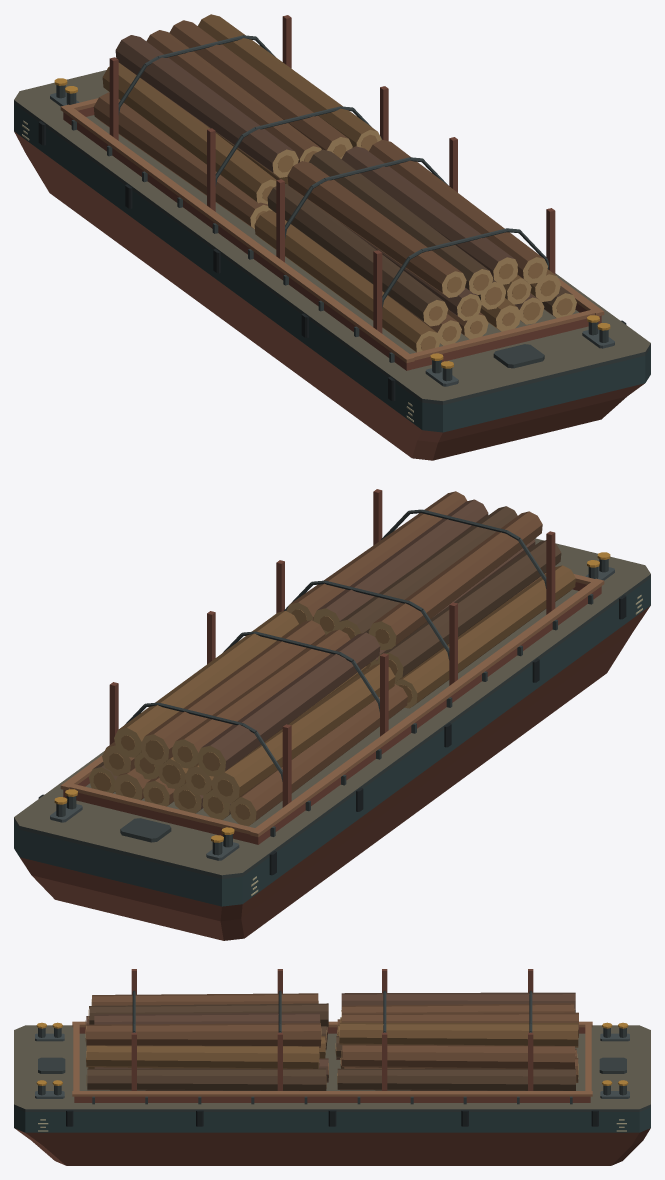
File: barge_logs_mid.glb
3 renders of one model, top to bottom at view 1: azimuth 30°, elevation 25°; view 2: azimuth 150°, elevation 25°; view 3: azimuth 270°, elevation 25°, orthographic. The views are drawn at different scales.
Parts seen in each view (by area): view 1: Lashed sawlogs, Steel scow.002; view 2: Lashed sawlogs, Steel scow.002; view 3: Steel scow.002, Lashed sawlogs.
Part boxes in pixels (x1,y1,x2,y2): Lashed sawlogs: (93,14,576,352); Steel scow.002: (14,70,650,460); Lashed sawlogs: (88,489,575,826); Steel scow.002: (14,538,650,940); Steel scow.002: (14,1021,650,1165); Lashed sawlogs: (85,969,578,1090).
Size of the model in its own units: 7.68 by 5.33 by 24.
